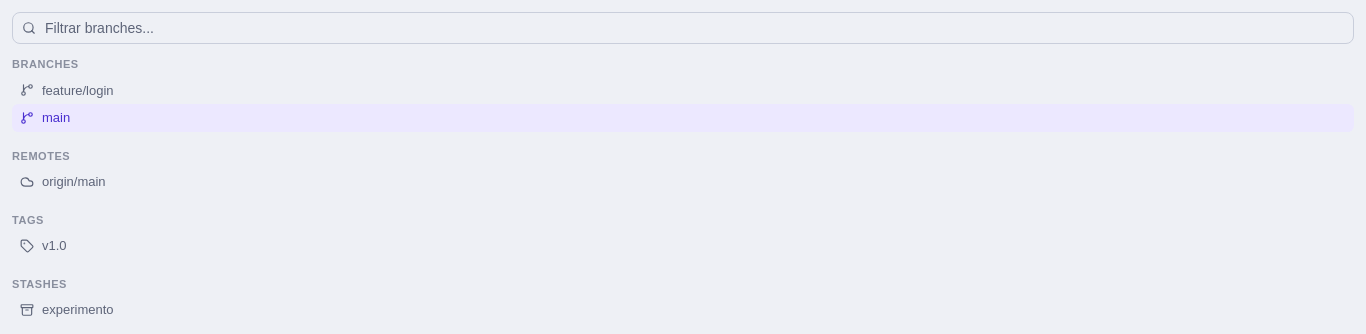
Test case: Sidebar › remote branches can't be deleted from the sidebar
Right-click the text "origin/main": (74, 182) [42,172,106,192]
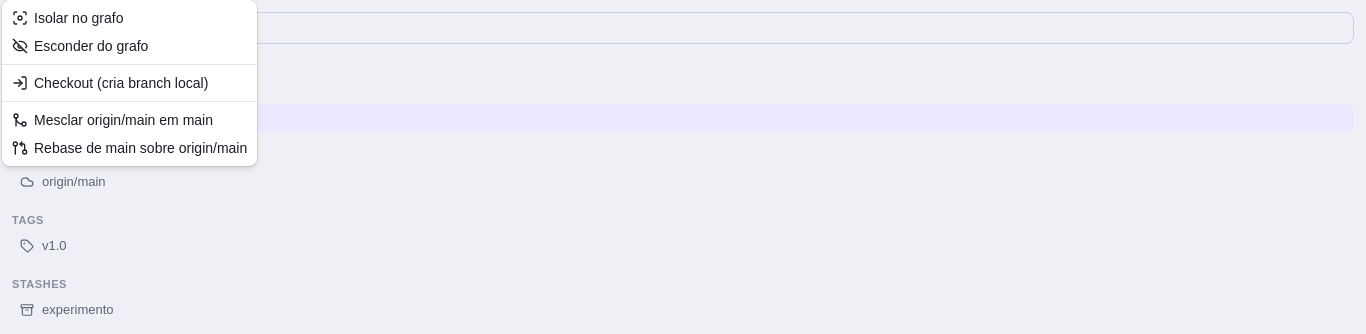
Check: the menu item "Checkout (cria branch local)" is shown, box [12,75,208,91]
